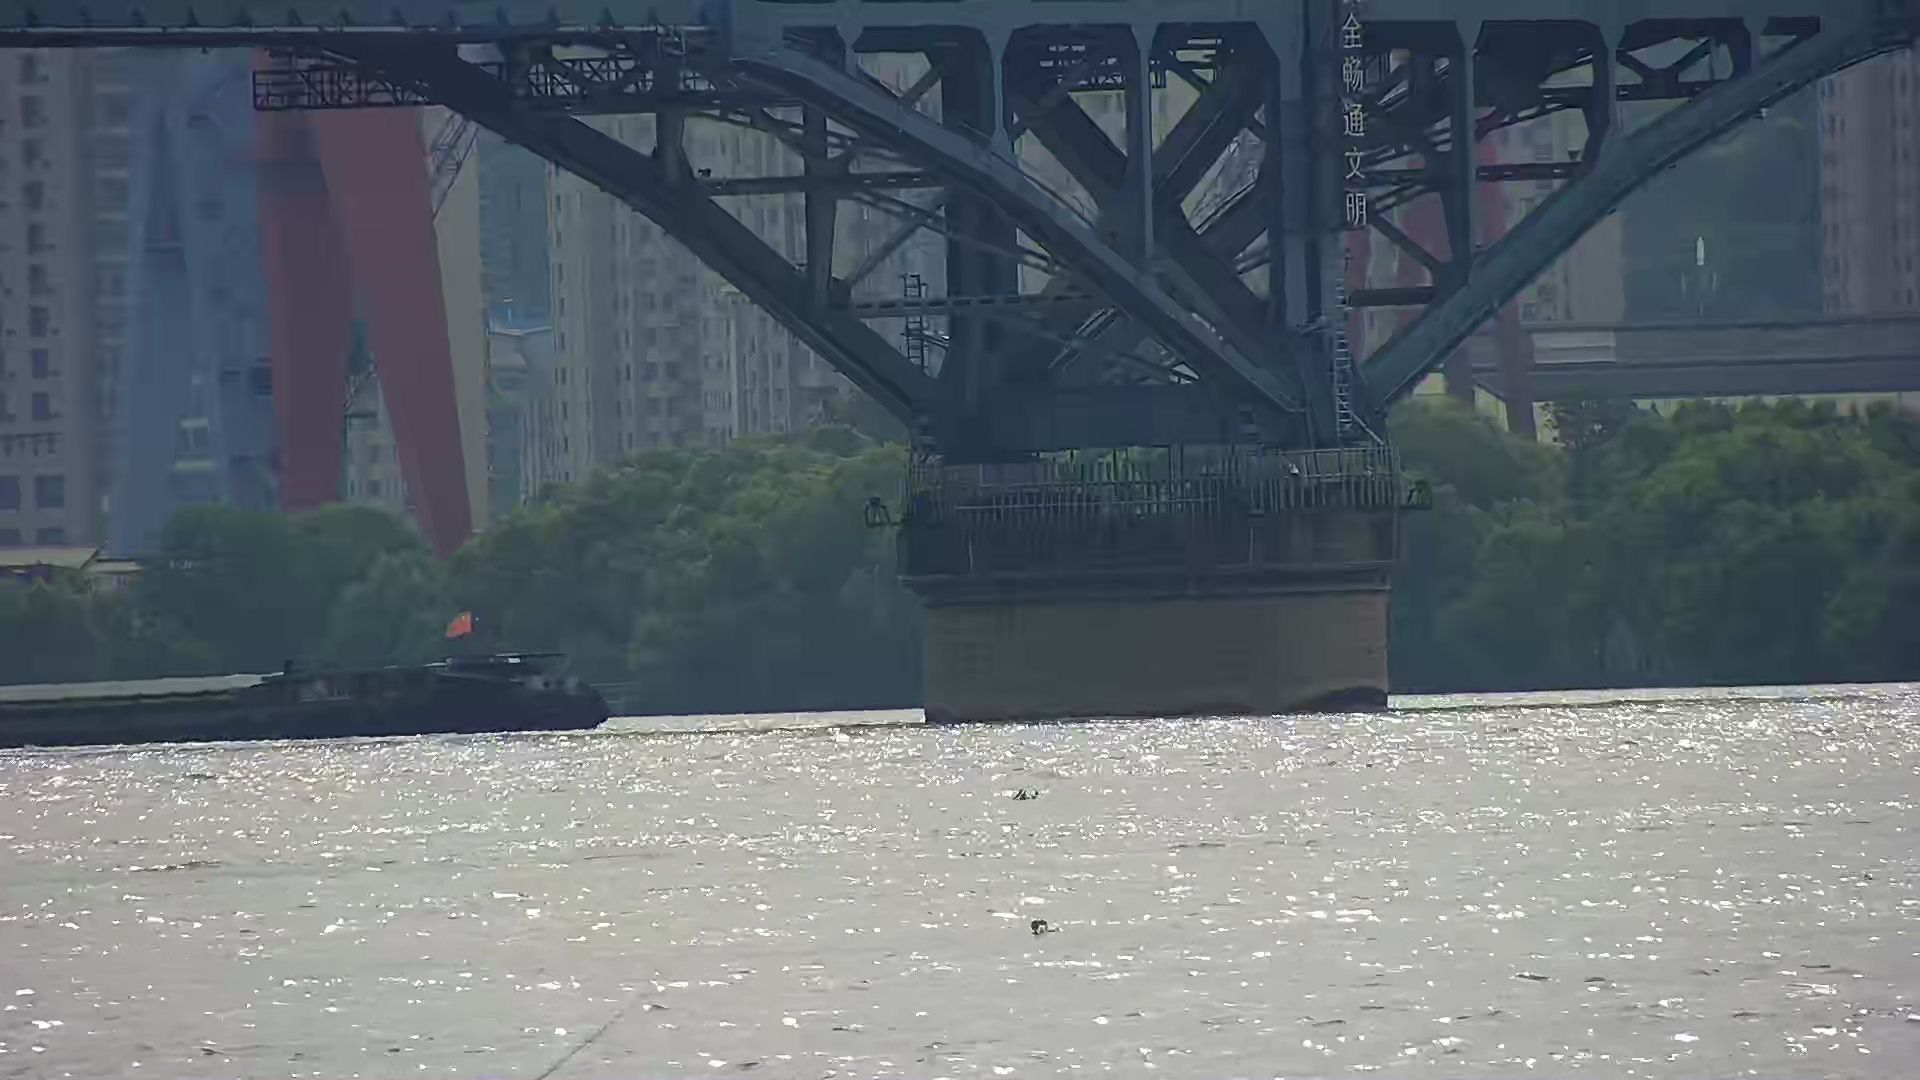bridge: (1, 1, 1920, 727)
ship: (1, 613, 618, 750)
